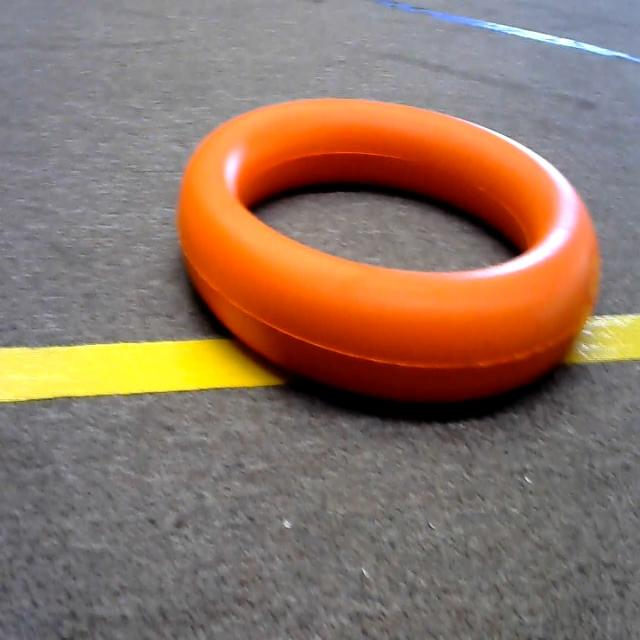note: (160, 76, 609, 414)
